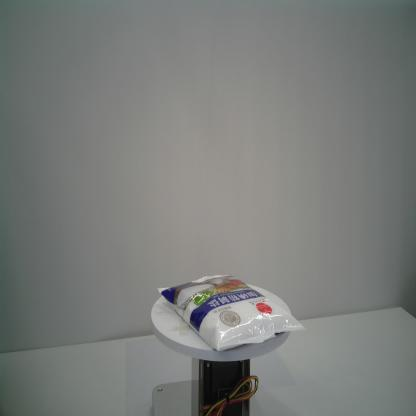Seasoner: (158, 272, 305, 352)
